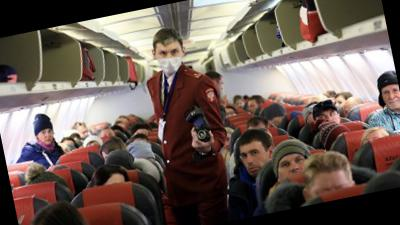with_mask: (157, 45, 187, 76)
without_mask: (241, 141, 271, 178), (382, 87, 400, 113), (37, 128, 57, 146), (214, 81, 227, 98)
